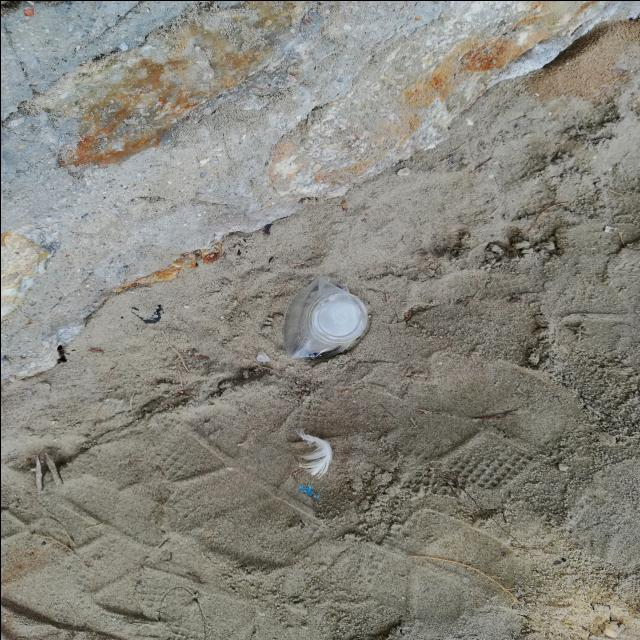Disposable plastic cup: (281, 275, 366, 359)
Unlabeled litter: (294, 483, 320, 499)
